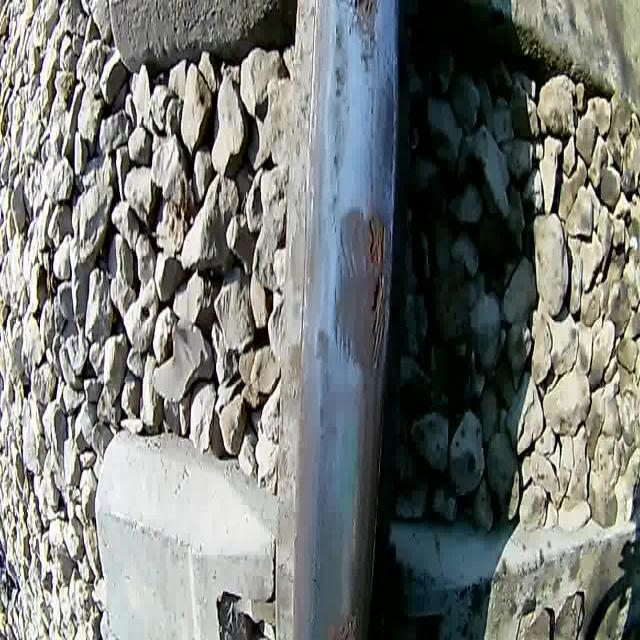Spallings: (365, 210, 389, 376), (344, 0, 376, 23)
Squats: (326, 202, 396, 390), (344, 0, 384, 88), (319, 605, 360, 640)
